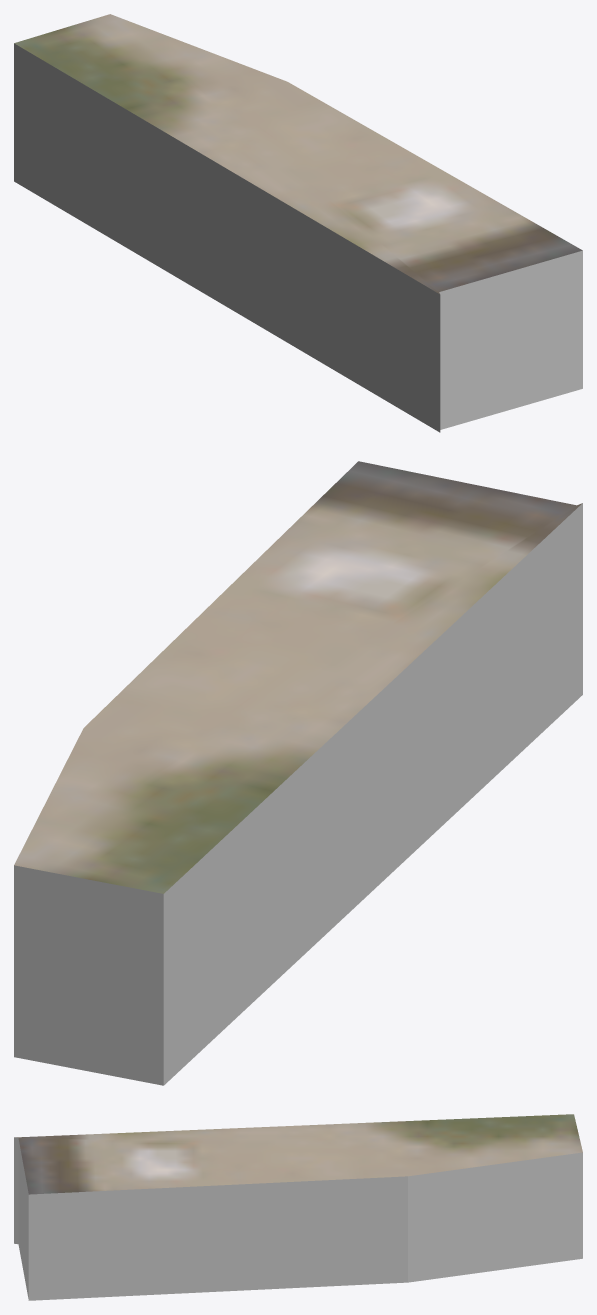
The model's file is DEBW_0010007Txin.gltf.
3 renders of one model, top to bottom at view 1: azimuth 30°, elevation 25°; view 2: azimuth 150°, elevation 25°; view 3: azimuth 270°, elevation 25°, orthographic. The views are drawn at different scales.
Visible parts, largest first — view 1: Z_UP; view 2: Z_UP; view 3: Z_UP.
Part boxes in pixels (x1=…): Z_UP: x1=14, y1=14, x2=582, y2=432; Z_UP: x1=14, y1=461, x2=582, y2=1085; Z_UP: x1=14, y1=1114, x2=582, y2=1300.
Size of the model in its own units: 4.24 by 2.61 by 12.68.
2 materials, 1 textured.
